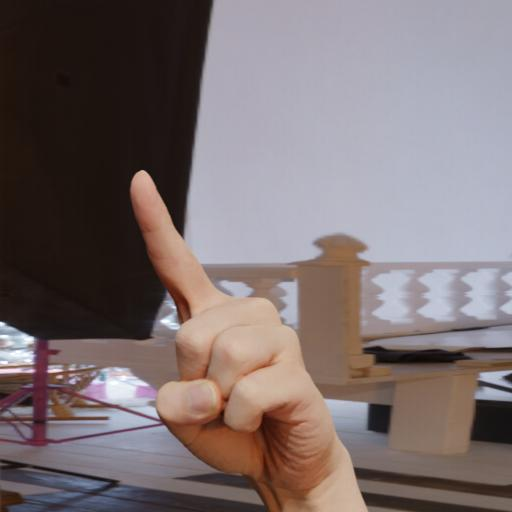Z: (117, 162, 364, 512)
